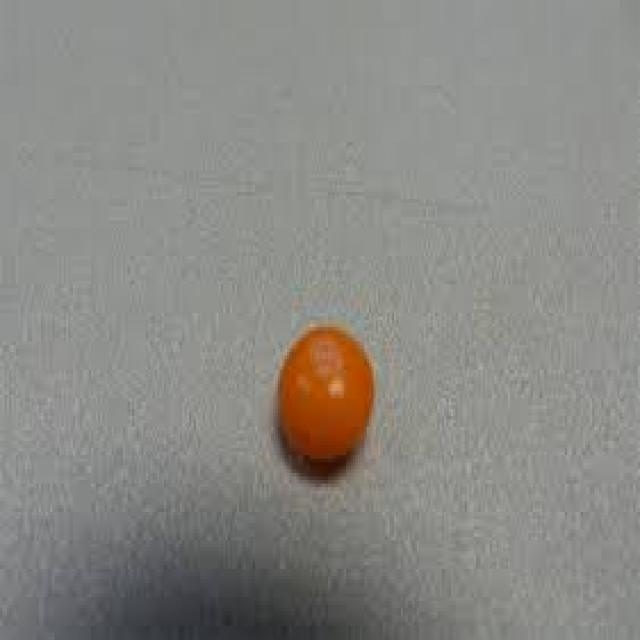smartie: (280, 331, 374, 459)
